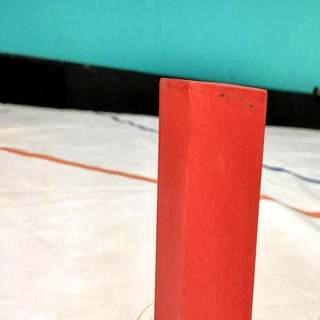redbox: (153, 75, 270, 320)
